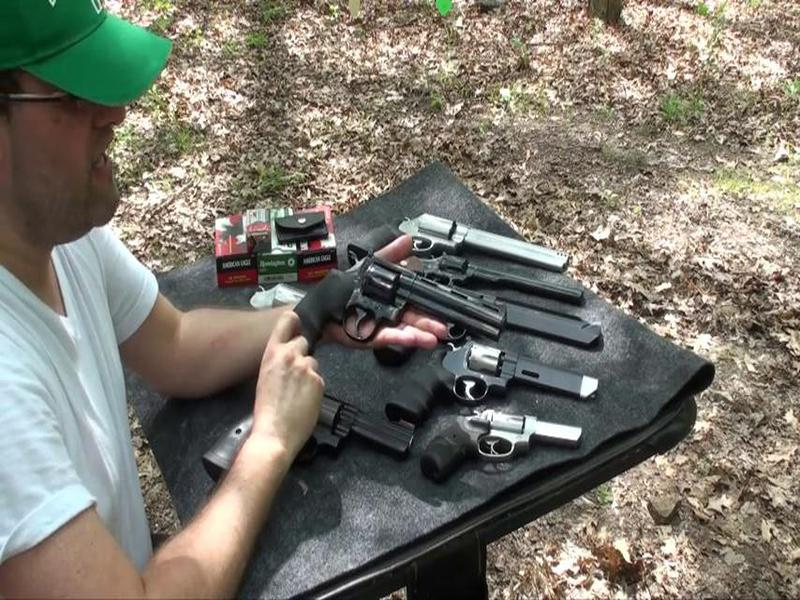Revolver: (262, 248, 537, 380)
